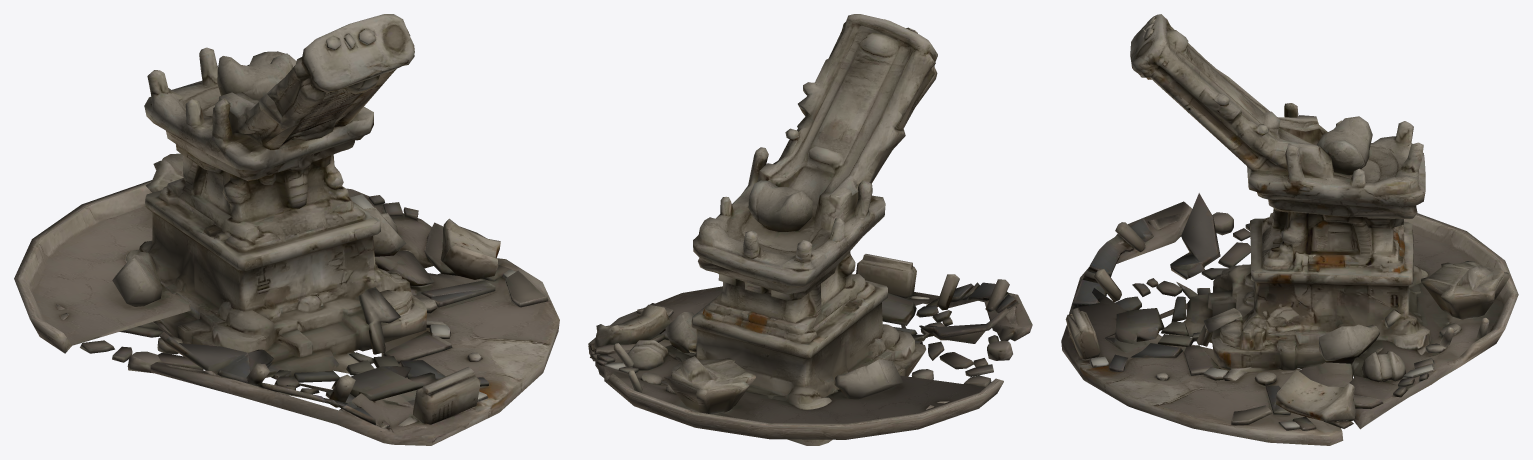
The model's file is monument.glb.
The picture shows the model from 3 angles, left to right: view 1: azimuth 30°, elevation 25°; view 2: azimuth 150°, elevation 25°; view 3: azimuth 270°, elevation 25°; orthographic projection. The views are drawn at different scales.
Parts seen in each view (by area): view 1: tripo_node_6dc3c4d2-1126-413a-b02a-846444608854; view 2: tripo_node_6dc3c4d2-1126-413a-b02a-846444608854; view 3: tripo_node_6dc3c4d2-1126-413a-b02a-846444608854.
Boxes of the visible parts, x1,y1,x2,y2 form: tripo_node_6dc3c4d2-1126-413a-b02a-846444608854: [14, 14, 559, 445]; tripo_node_6dc3c4d2-1126-413a-b02a-846444608854: [588, 14, 1032, 445]; tripo_node_6dc3c4d2-1126-413a-b02a-846444608854: [1061, 14, 1518, 445].
Bounding box in the file's own units: 0.998 × 0.7715 × 0.998.
Materials: 1 (1 with a texture image).
